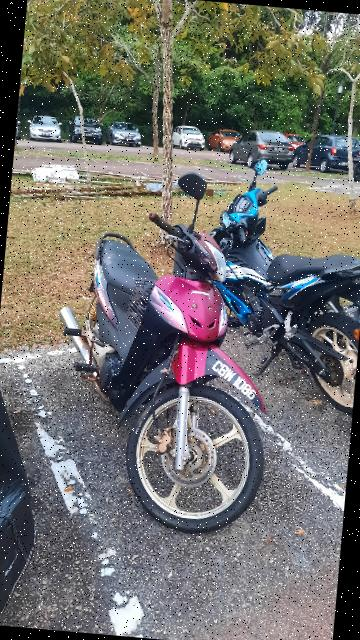License_Plate: (202, 348, 276, 425)
motorcycle: (39, 163, 306, 543), (198, 159, 360, 415)
